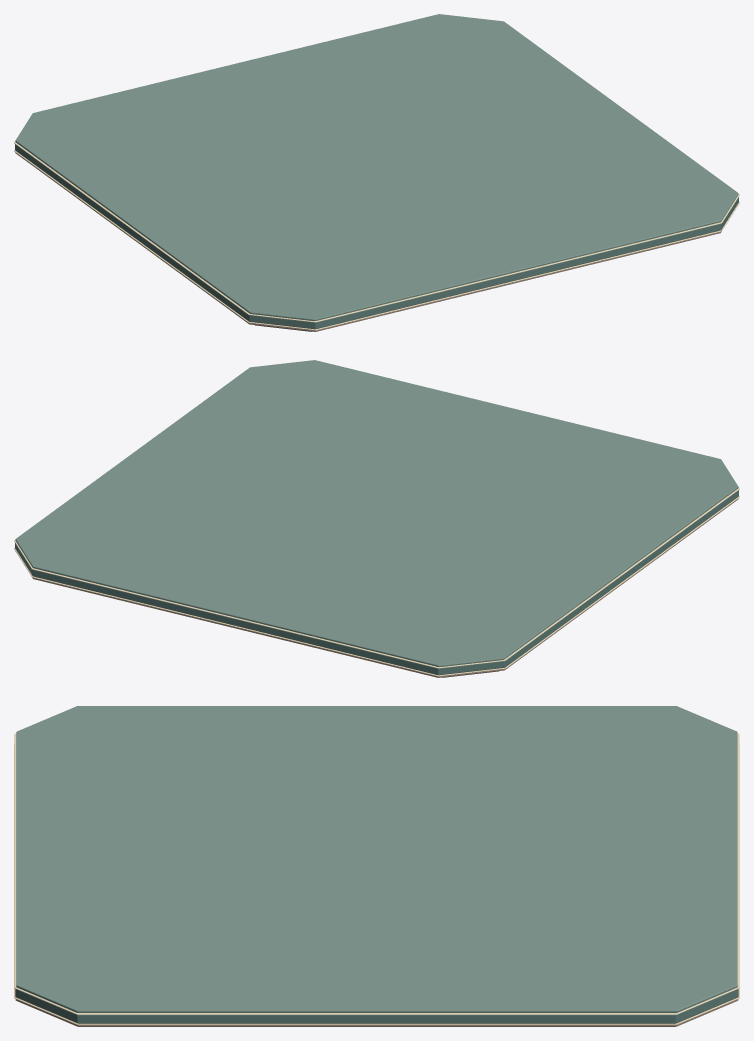
The model's file is arena_plinth.fbx.
3 views of the same model, one above another, from view 1: azimuth 30°, elevation 25°; view 2: azimuth 150°, elevation 25°; view 3: azimuth 270°, elevation 25° (orthographic). The views are drawn at different scales.
Visible parts, largest first — view 1: arena_plinth; view 2: arena_plinth; view 3: arena_plinth.
Boxes of the visible parts, <box> form: arena_plinth: <box>14,14,739,331</box>; arena_plinth: <box>14,360,739,677</box>; arena_plinth: <box>14,706,739,1026</box>.
Bounding box in the file's own units: 145 × 4.14 × 145.
